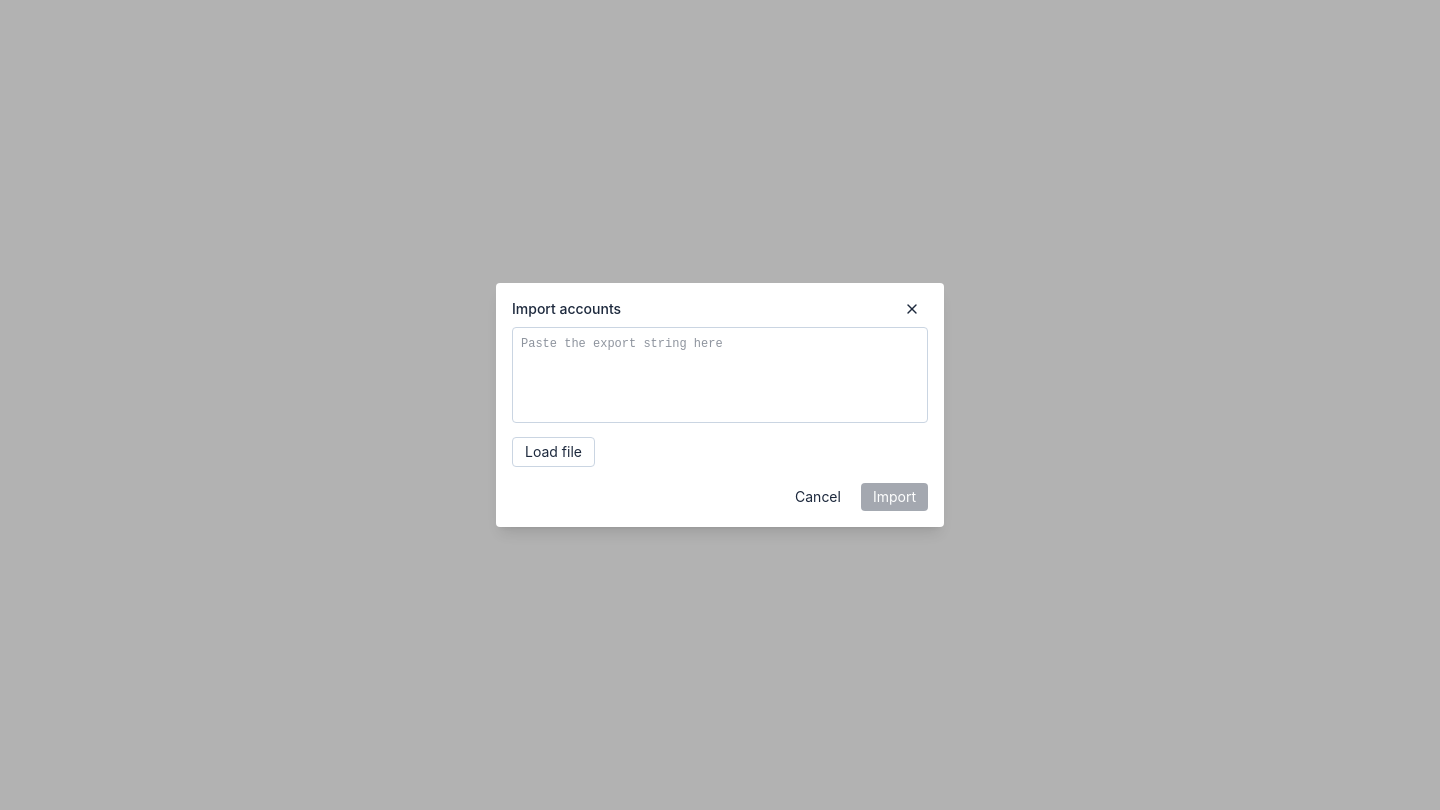
ImportAccountsDialog › shows the password field for an encrypted blob and previews after the password
Step 1. Type "ENC" into the text box named "Import data" → (720, 375), box [512,327,928,423]
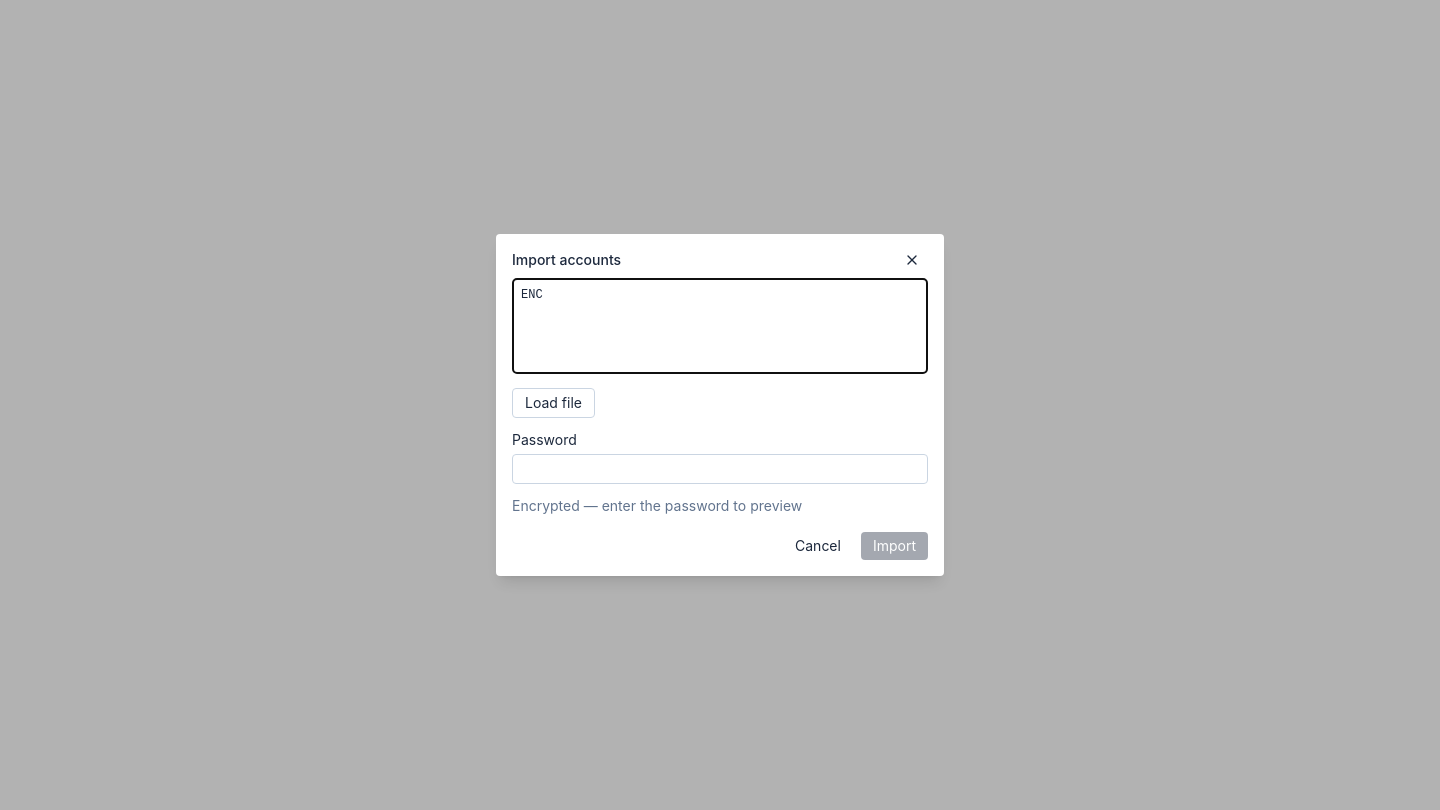
Check: the button "Import" is disabled, box [861,532,928,560]
Step 2. Type "secret" into the password field labelled "Password" → (720, 469), box [512,454,928,484]
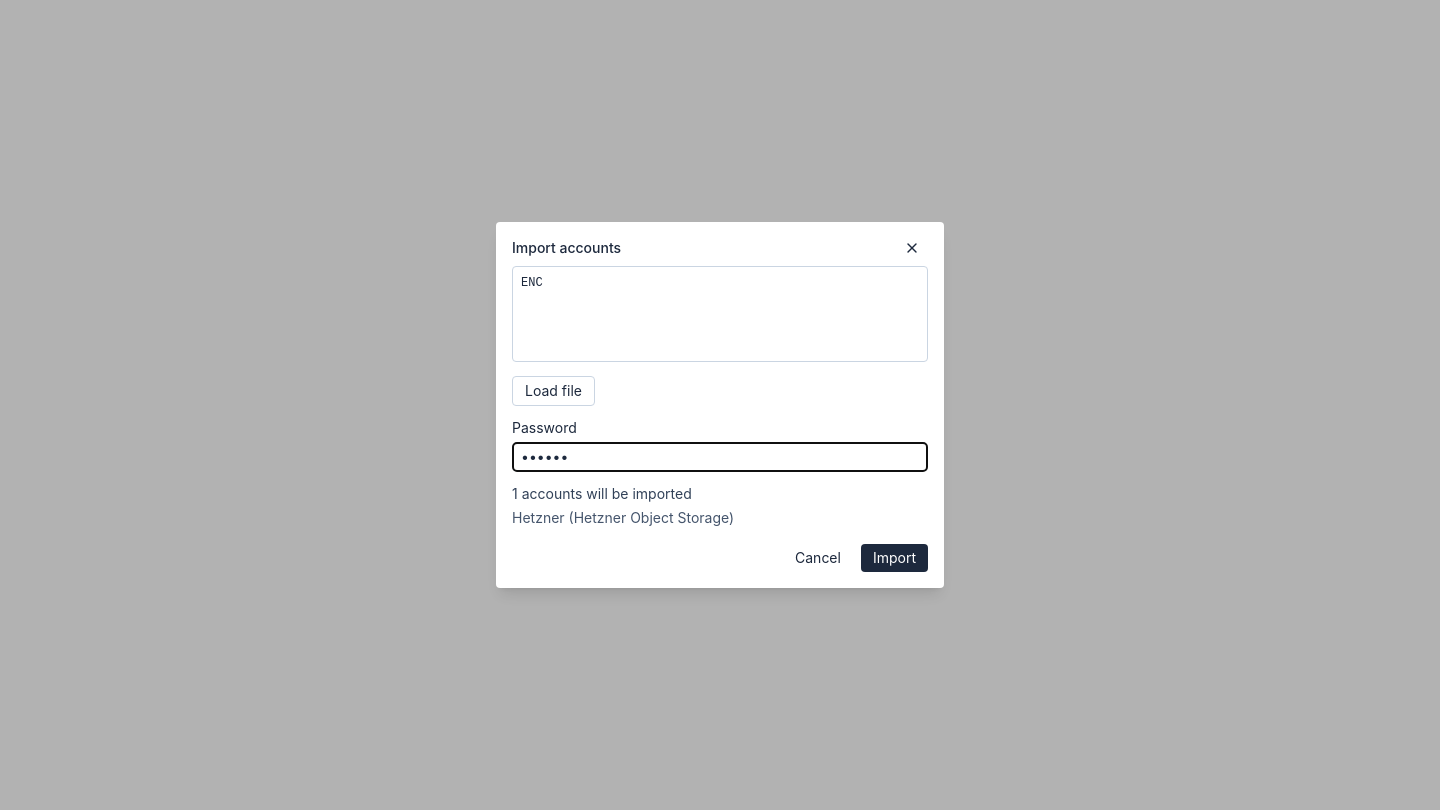
Check: the list item "Hetzner (Hetzner Object Storage)" is shown, box [512,509,734,526]
Check: the button "Import" is enabled, box [861,544,928,572]
